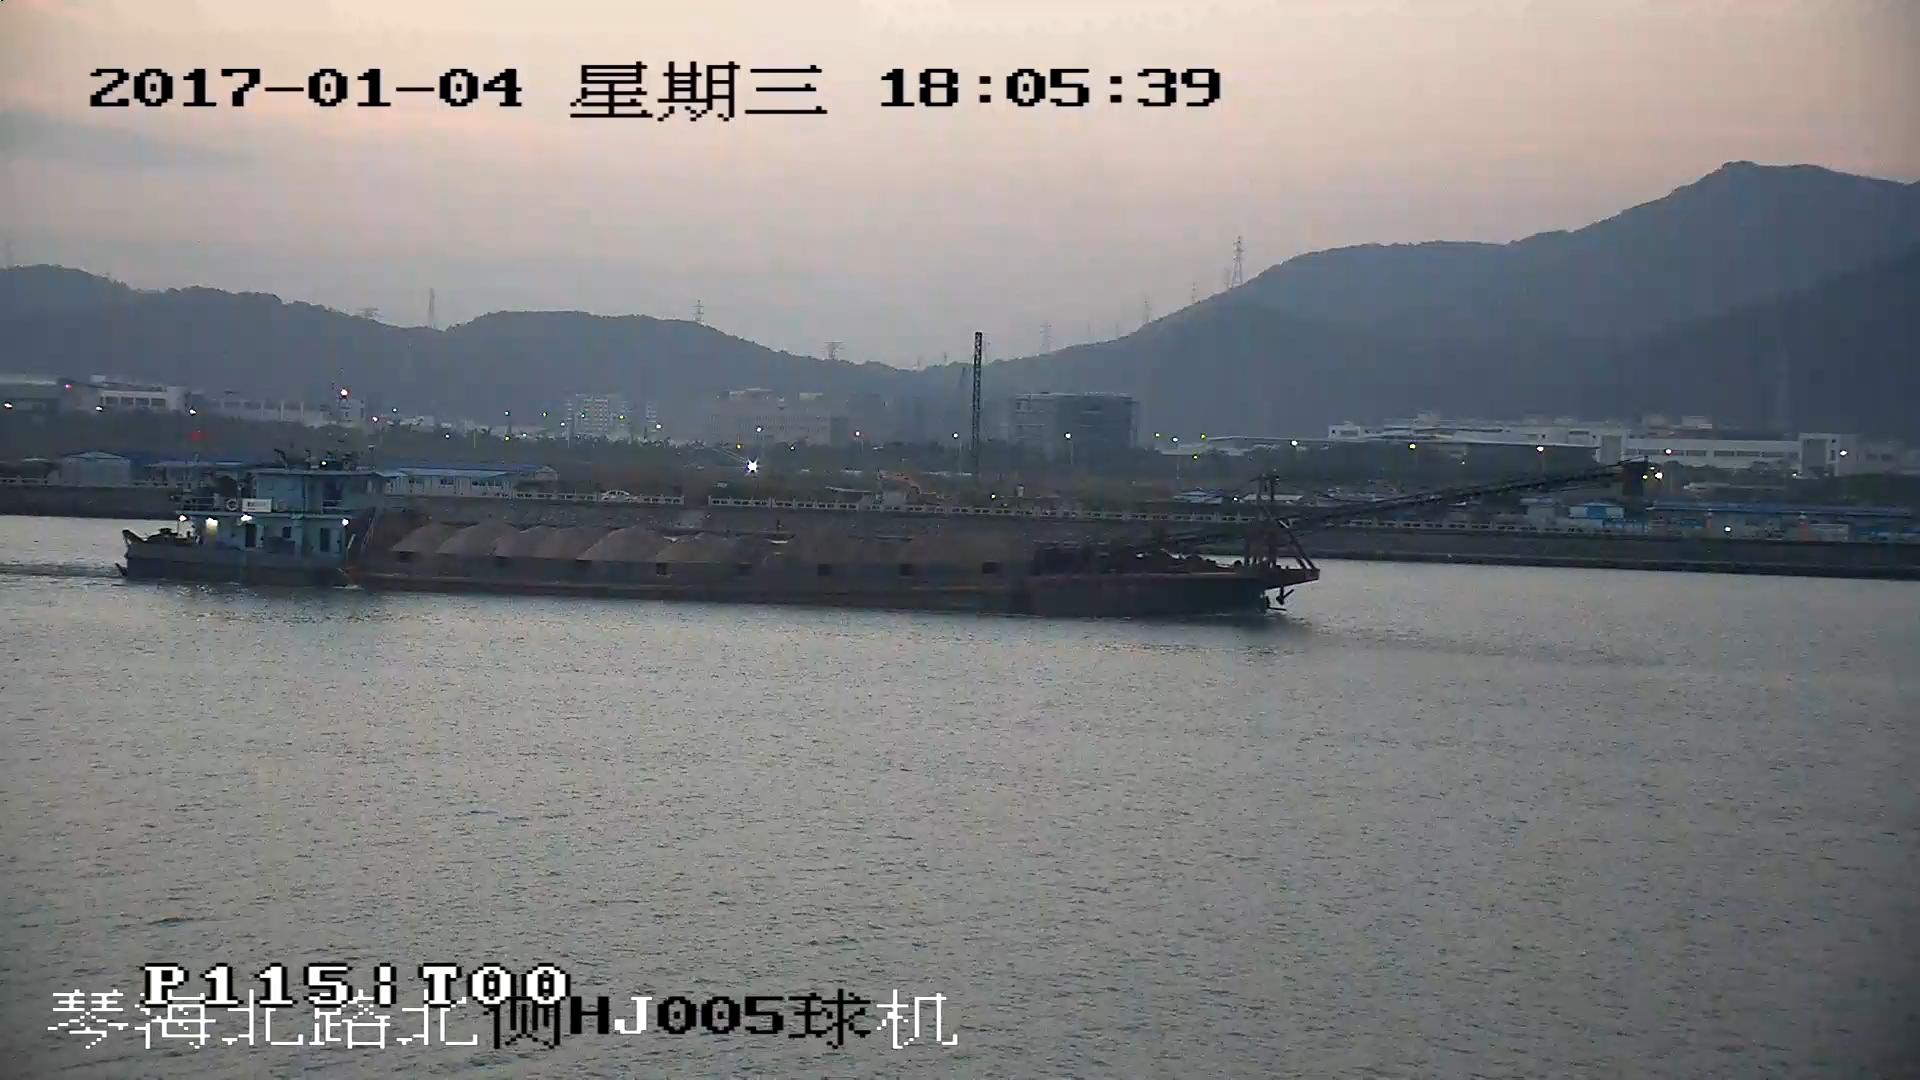ore carrier: (120, 463, 1626, 622)
